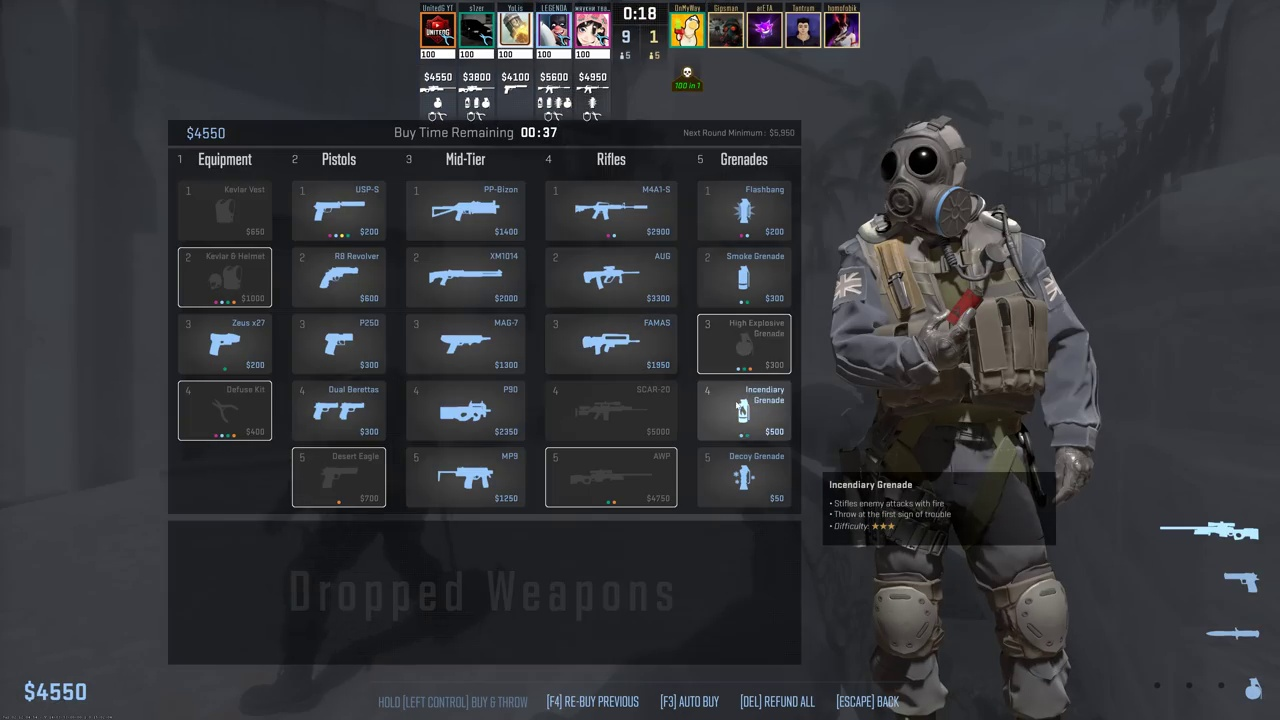CT: (858, 129, 1075, 717)
